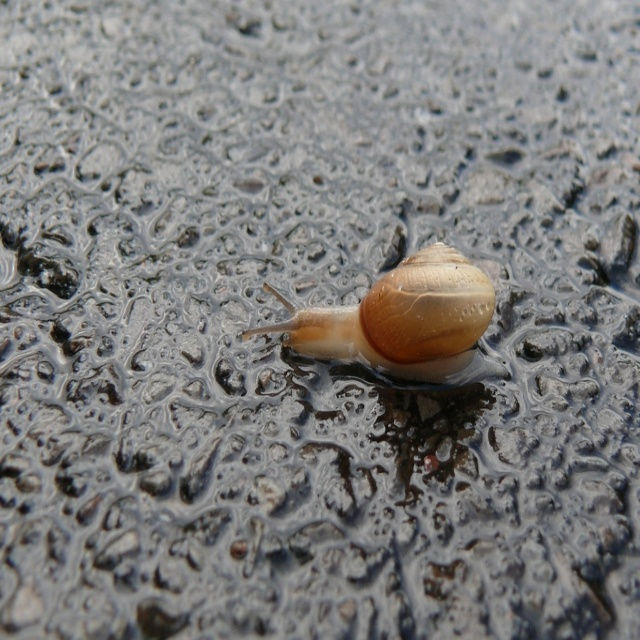Snail: (242, 240, 511, 388)
